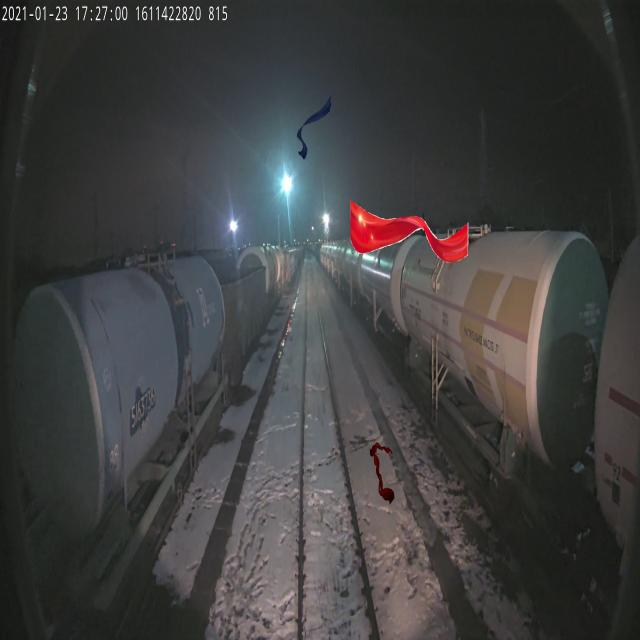floating object: (348, 200, 470, 264), (297, 96, 331, 160), (369, 441, 395, 505)
